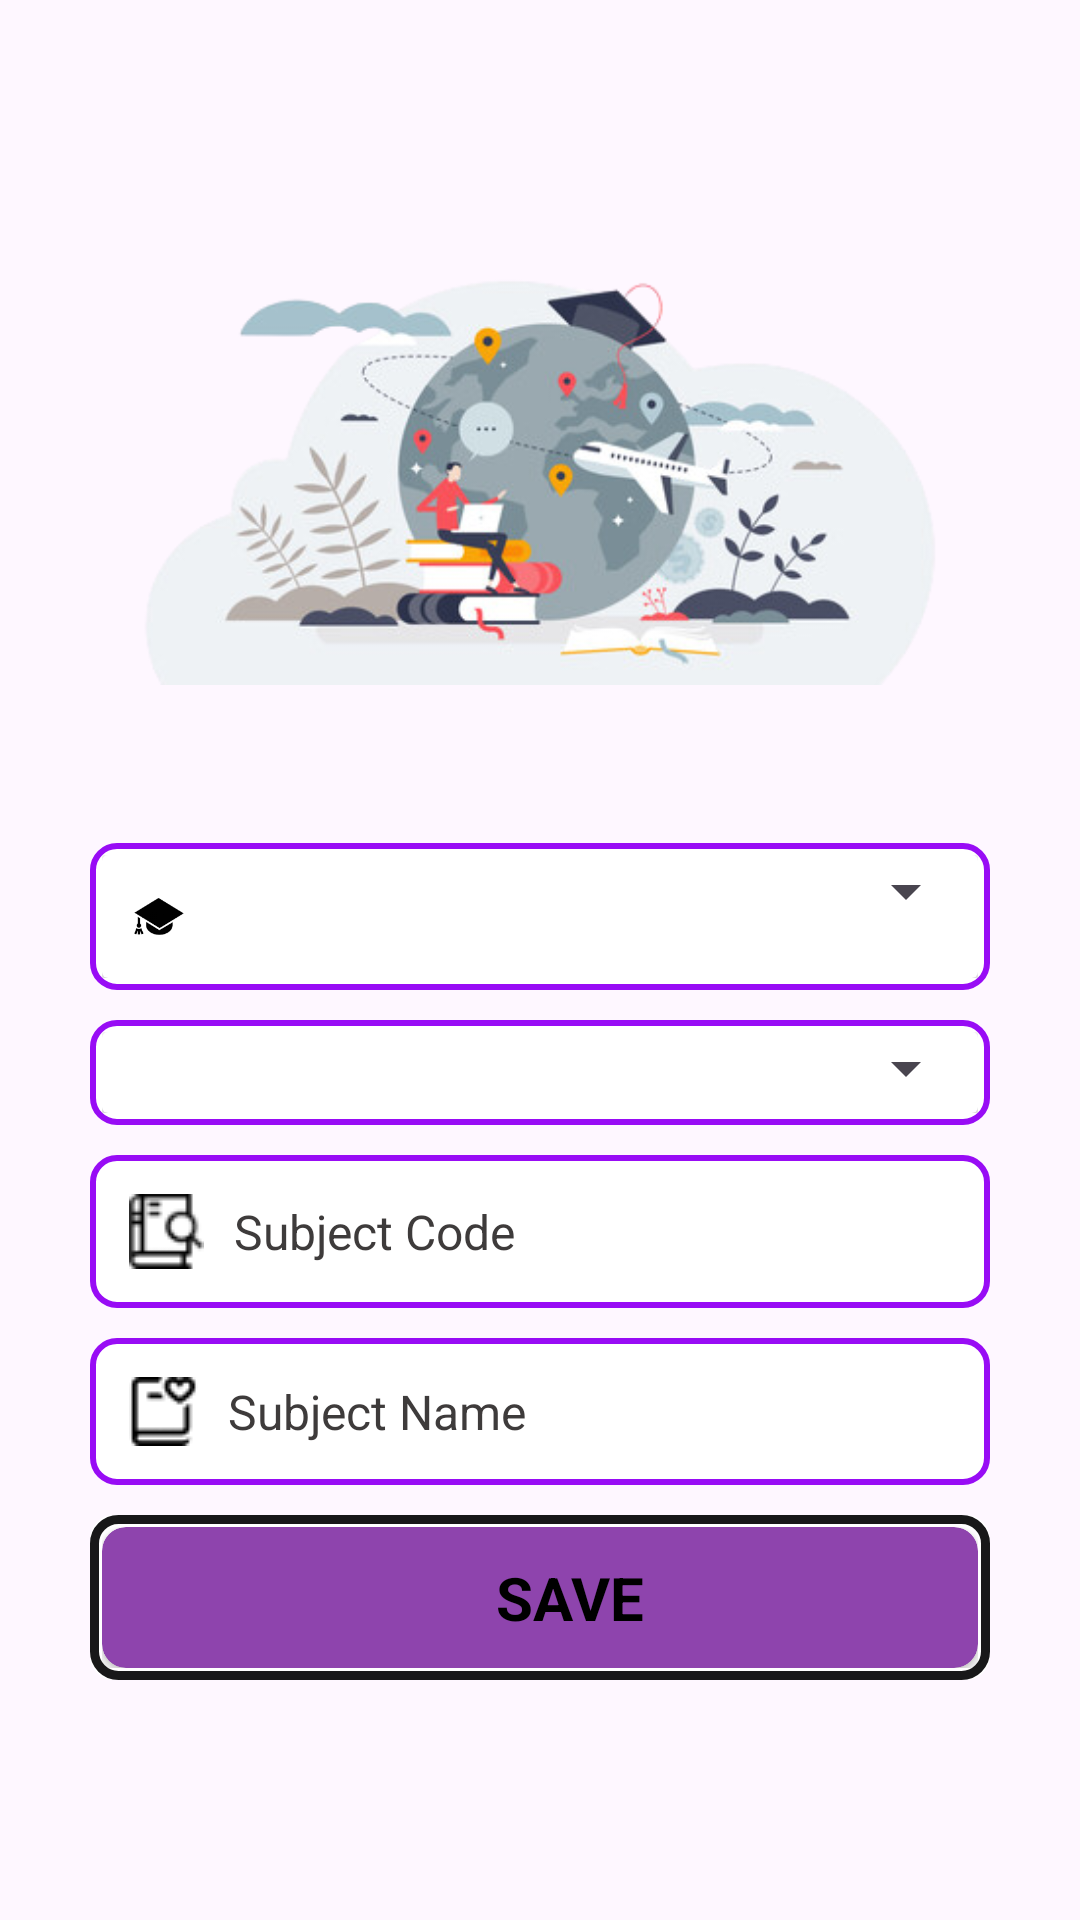

Icons on this 1080px x 1920px Android screen, each with its box as (x1,y1,x2,y2):
coursemaster: (134,898,184,935)
